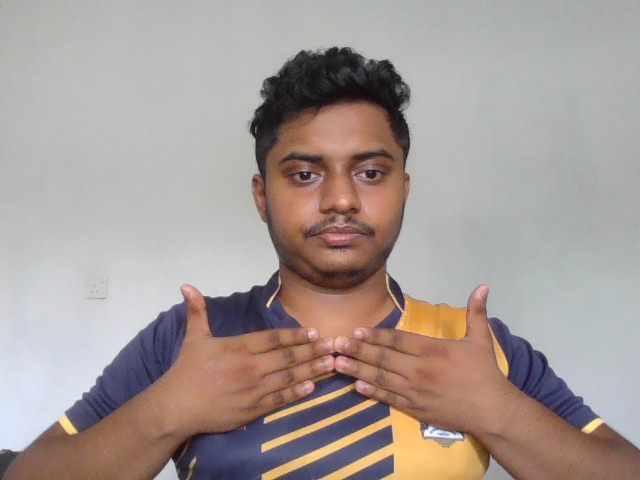Thank You: (166, 280, 504, 439)
